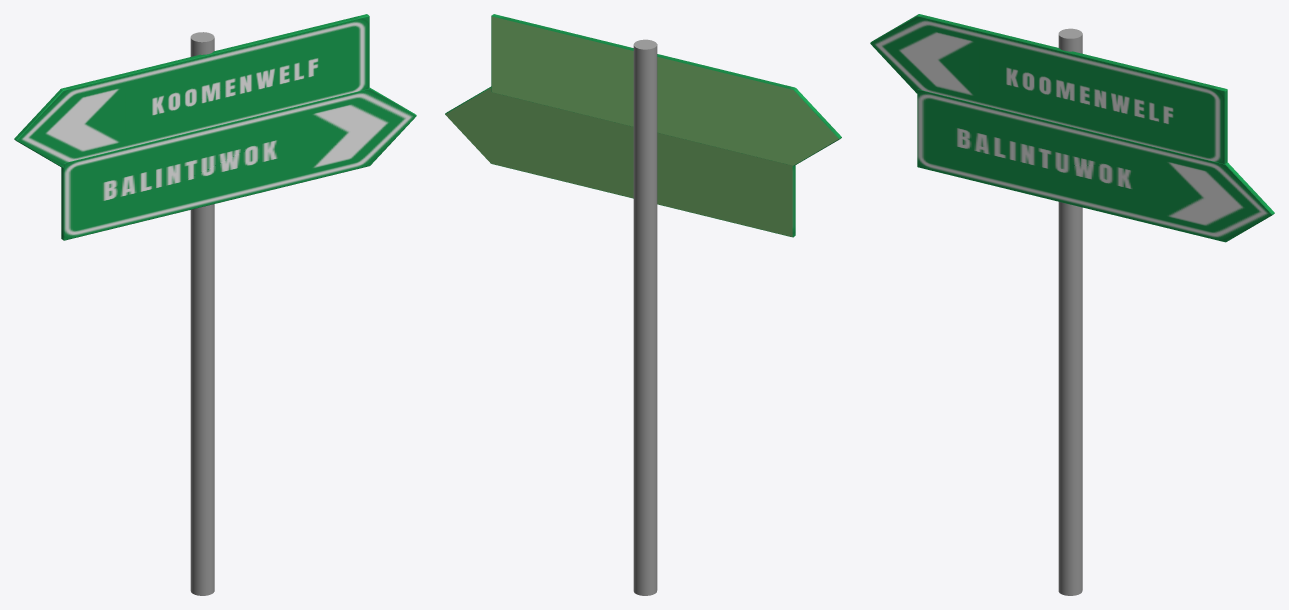
File: Intersection(5).fbx
3 renders of one model, left to right at view 1: azimuth 30°, elevation 25°; view 2: azimuth 150°, elevation 25°; view 3: azimuth 330°, elevation 25°, orthographic.
Parts seen in each view (by area): view 1: polySurface1; view 2: polySurface1; view 3: polySurface1.
Part boxes in pixels (x1,y1,x2,y2): polySurface1: (14, 14, 416, 595); polySurface1: (445, 14, 841, 595); polySurface1: (870, 14, 1274, 595).
Size of the model in its own units: 6.14 by 8.11 by 0.3421.
5 materials, 2 textured.
